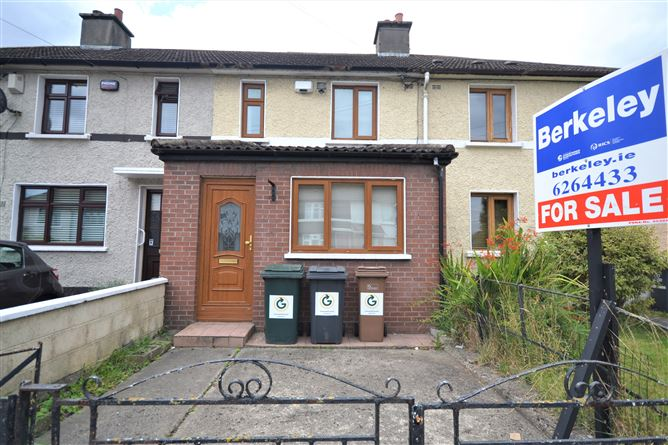property sign: (510, 46, 668, 229)
